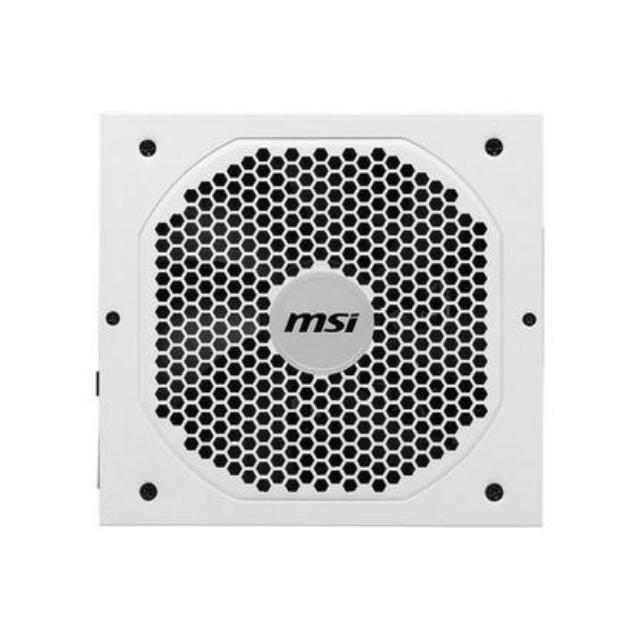PSU: (78, 87, 560, 550)
